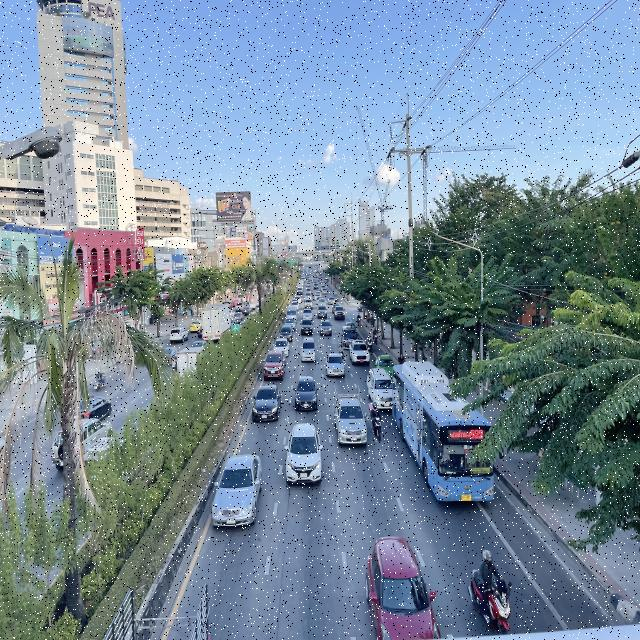bike: (466, 546, 515, 634), (368, 398, 384, 442), (366, 332, 373, 352), (338, 342, 344, 362), (372, 327, 378, 345), (356, 312, 362, 327)
bus: (392, 362, 495, 506)
car: (362, 532, 440, 640), (209, 454, 263, 528), (282, 421, 324, 486), (251, 384, 281, 422), (293, 374, 319, 412), (263, 351, 286, 381), (374, 353, 396, 379), (324, 352, 345, 379), (349, 340, 370, 366), (300, 336, 318, 363), (272, 337, 290, 358), (280, 325, 294, 343)
truck: (98, 582, 211, 640), (334, 384, 368, 448), (367, 366, 396, 411)
